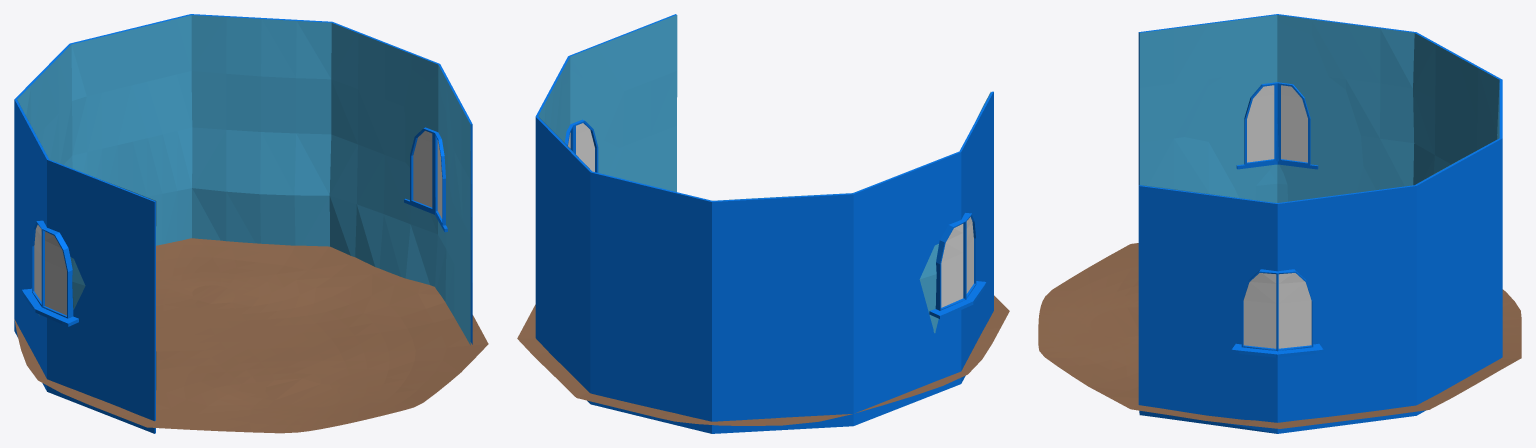
Rendered from Torre inteira.dae.
3 renders of one model, left to right at view 1: azimuth 30°, elevation 25°; view 2: azimuth 150°, elevation 25°; view 3: azimuth 270°, elevation 25°, orthographic.
Parts seen in each view (by area): view 1: Torre.002, Chao Agua.001, Torre.001; view 2: Torre.001, Torre.002, Chao Agua.001; view 3: Torre.001, Torre.002, Chao Agua.001.
Boxes of the visible parts, box(x1,y1,x2,y2) form: Torre.002: box(17, 15, 470, 389); Chao Agua.001: box(14, 238, 488, 433); Torre.001: box(14, 14, 472, 433); Torre.001: box(535, 14, 993, 433); Torre.002: box(538, 15, 990, 333); Chao Agua.001: box(517, 295, 1009, 425); Torre.001: box(1138, 14, 1502, 433); Torre.002: box(1139, 15, 1499, 416); Chao Agua.001: box(1038, 243, 1521, 428).
Bounding box in the file's own units: 42.73 × 42.98 × 22.57.
